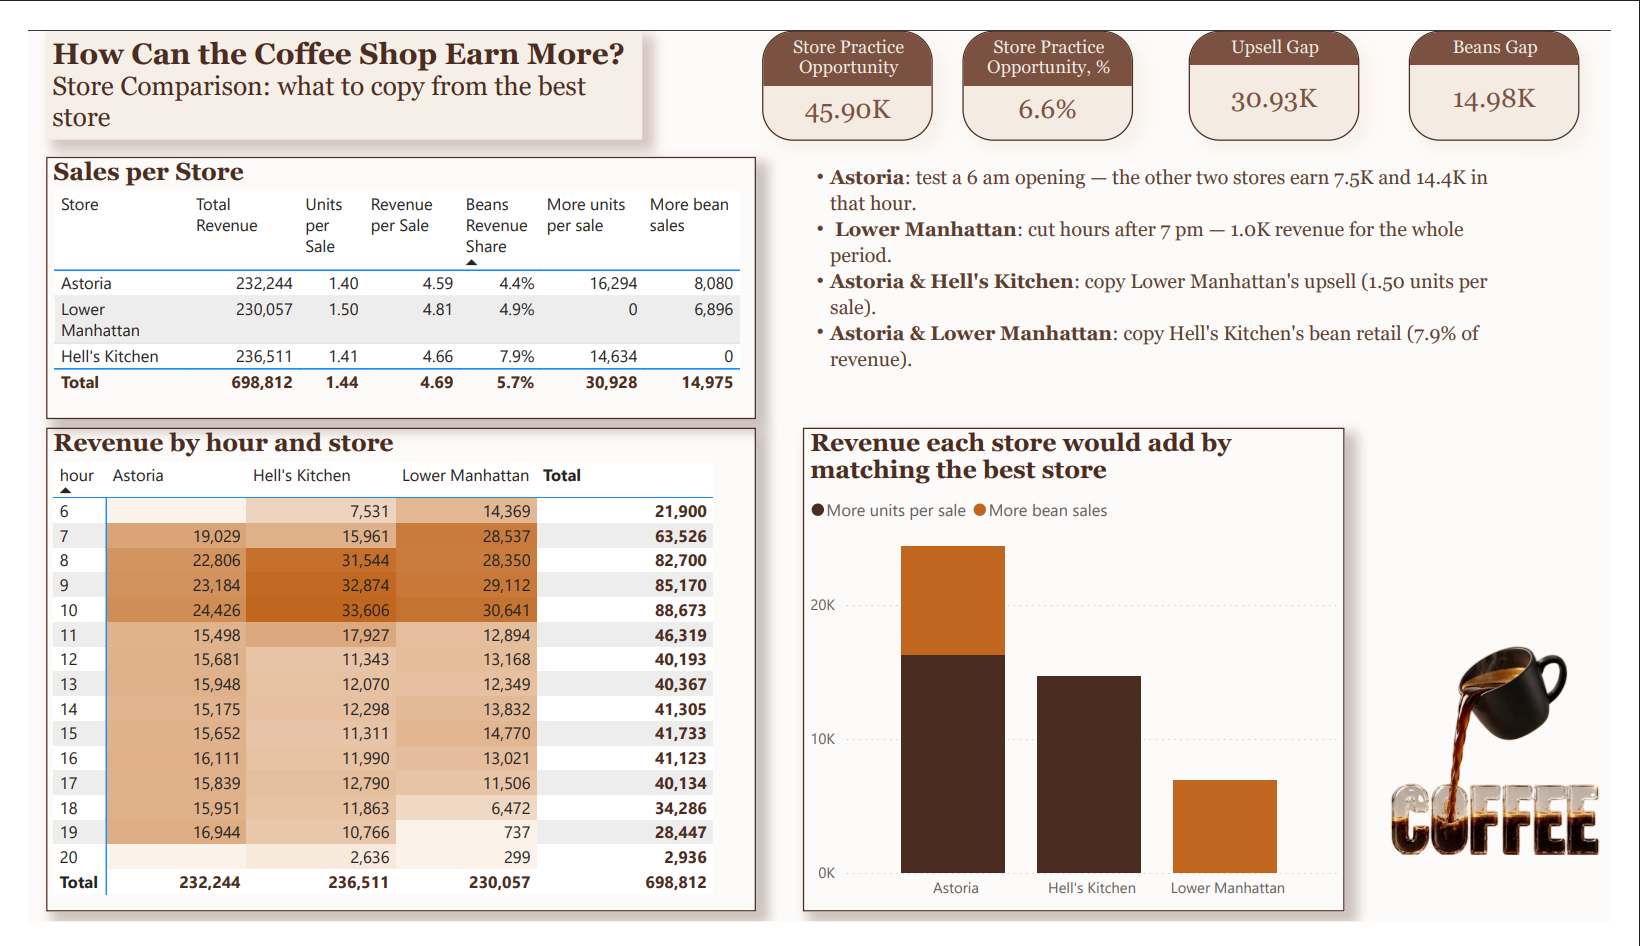

The dashboard page shown, as its layout file describes it:
{"tool":"powerbi","page":{"name":"Stores","canvas":[1280,720],"ordinal":1},"visuals":[{"type":"textbox","box":[15.2,0,481.4,88.5],"z":0},{"type":"card","title":"Store Practice Opportunity","fields":{"Values":["_Measure_Store.Store Practice Opportunity"]},"box":[593.7,0,137.9,89.4],"z":2000},{"type":"image","box":[1093.1,475.7,186.5,244.5],"z":3000},{"type":"card","title":"Beans Gap ","fields":{"Values":["_Measure_Store.Beans Gap Revenue"]},"box":[1116.9,0,137.9,89.4],"z":8000},{"type":"card","title":"Upsell Gap ","fields":{"Values":["_Measure_Store.Upsell Gap Revenue"]},"box":[939,0,137.9,89.4],"z":10000},{"type":"card","title":"Store Practice Opportunity, %","fields":{"Values":["_Measure_Store.Store Practice Opportunity %"]},"box":[756.3,0,137.9,89.4],"z":11000},{"type":"columnChart","title":"Revenue each store would add by matching the best store","fields":{"Category":["Store.Store"],"Y":["_Measure_Store.Upsell Gap Revenue","_Measure_Store.Beans Gap Revenue"]},"box":[627,320.6,437.6,391],"z":12000},{"type":"pivotTable","title":"Revenue by hour and store","fields":{"Columns":["Store.Store"],"Rows":["Hour.hour"],"Values":["_Measure_base.Total Revenue"]},"box":[15.2,320.6,573.7,391],"z":13000},{"type":"tableEx","title":"Sales per Store","fields":{"Values":["Store.Store","_Measure_base.Total Revenue","_Measure_base.Units per Sale","_Measure_base.Revenue per Sale","_Measure_Store.Beans Revenue Share","_Measure_Store.Upsell Gap Revenue","_Measure_Store.Beans Gap Revenue"]},"box":[15.2,101.8,573.7,212.2],"z":15001},{"type":"textbox","box":[620.3,101.8,589.9,202.6],"z":15002}]}

Visuals, with their boxes in screenshot pixels (x1, y1, x2, y2), scaled from the page's 1280x720 canvas onto the 1640x946 screenshot:
textbox: [x1=19, y1=0, x2=636, y2=116]
"Store Practice Opportunity" card: [x1=761, y1=0, x2=937, y2=117]
image: [x1=1401, y1=625, x2=1639, y2=945]
"Beans Gap " card: [x1=1431, y1=0, x2=1608, y2=117]
"Upsell Gap " card: [x1=1203, y1=0, x2=1380, y2=117]
"Store Practice Opportunity, %" card: [x1=969, y1=0, x2=1146, y2=117]
"Revenue each store would add by matching the best store" columnChart: [x1=803, y1=421, x2=1364, y2=935]
"Revenue by hour and store" pivotTable: [x1=19, y1=421, x2=755, y2=935]
"Sales per Store" tableEx: [x1=19, y1=134, x2=755, y2=413]
textbox: [x1=795, y1=134, x2=1551, y2=400]
